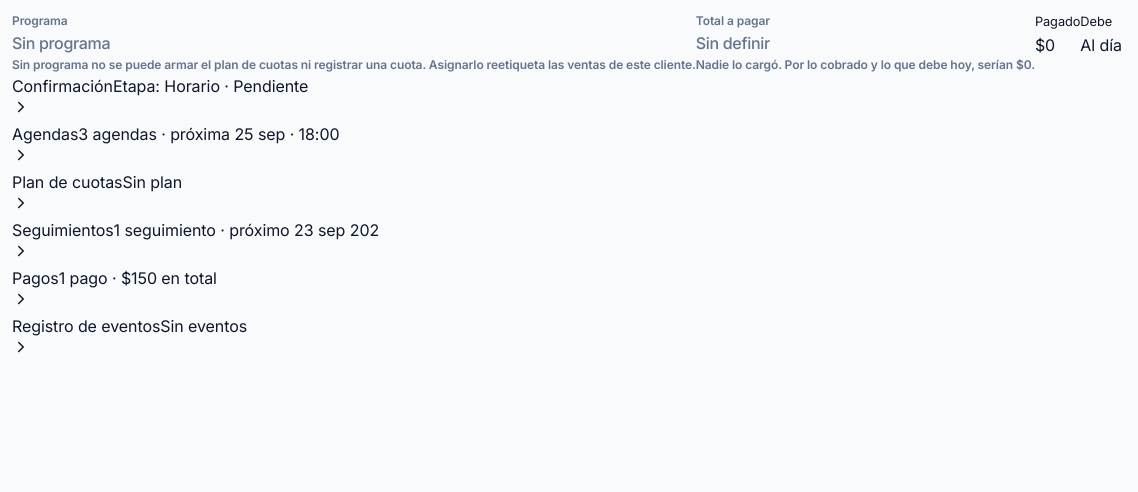
it: a quién se le hizo una transferencia, en la fila › quien no puede cobrar ve a quién, pero no lo marca
This screenshot has width=1138, height=492.
Click the button "Pagos1 pago · $150 en total" at (114, 287), box x1=12 y1=266 x2=217 y2=308
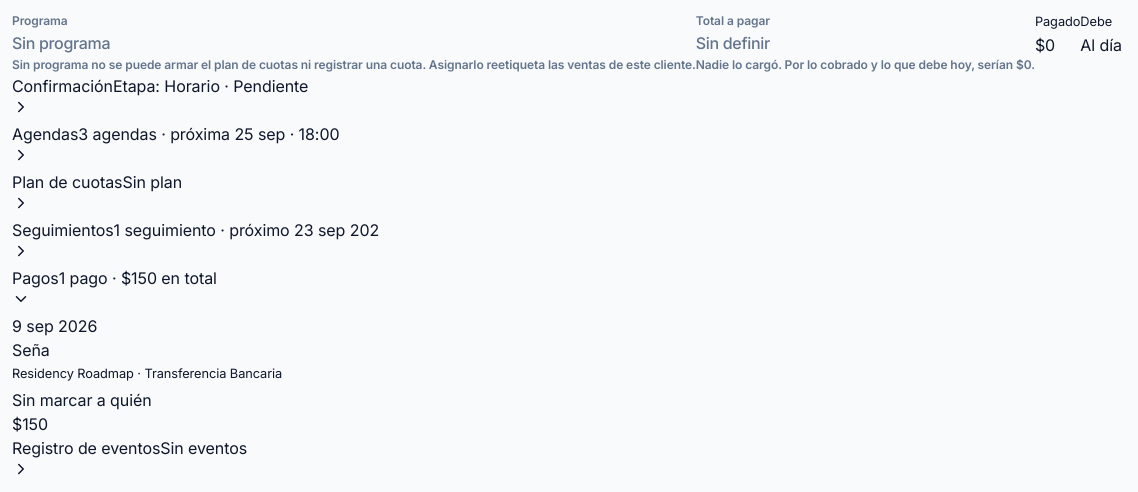
Expected: the text "Sin marcar a quién" is shown, x1=12 y1=388 x2=152 y2=412
